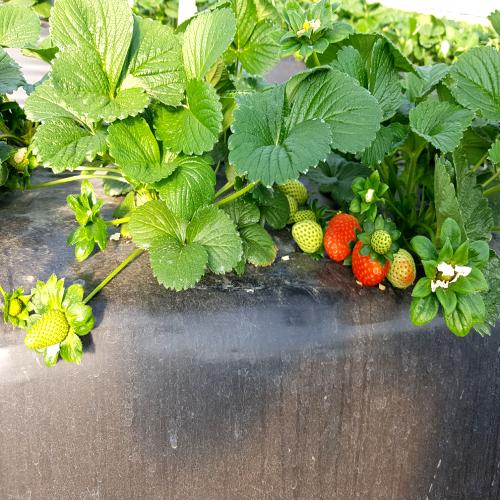ripe: (324, 202, 362, 266), (349, 231, 388, 288)
